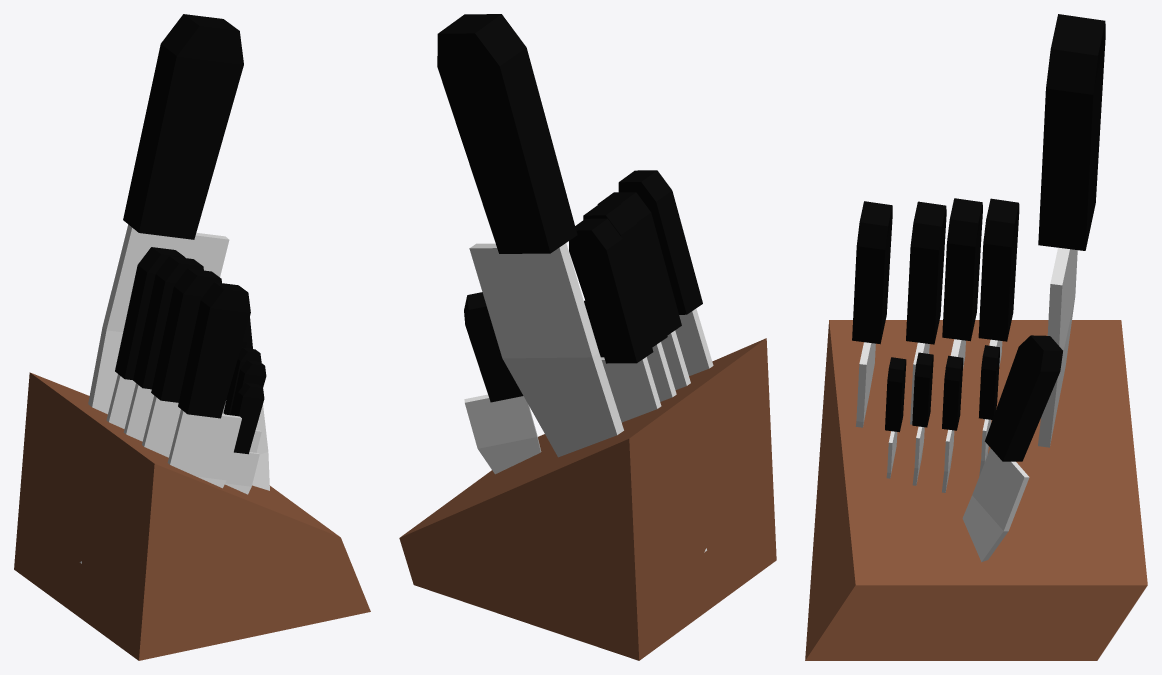
File: knife_block.glb
3 views of the same model, side by side, from view 1: azimuth 30°, elevation 25°; view 2: azimuth 150°, elevation 25°; view 3: azimuth 270°, elevation 25° (orthographic). The views are drawn at different scales.
Visible parts, largest first — view 1: Plane.010; view 2: Plane.010; view 3: Plane.010.
Boxes of the visible parts, left/top/right/bottom form: Plane.010: left=14, top=14, right=370, bottom=660; Plane.010: left=399, top=14, right=776, bottom=660; Plane.010: left=805, top=14, right=1147, bottom=660.
Bounding box in the file's own units: 3.53 × 8.14 × 4.1.
